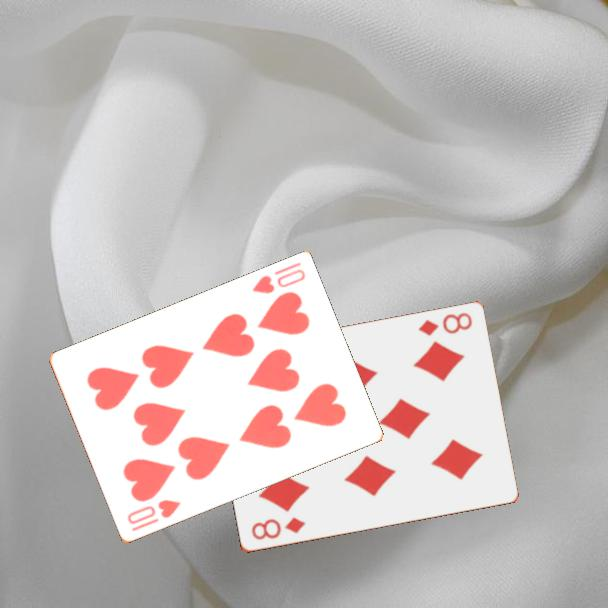d08: (414, 309, 475, 339), (248, 514, 308, 543)
h10: (123, 496, 183, 535), (248, 259, 308, 297)
